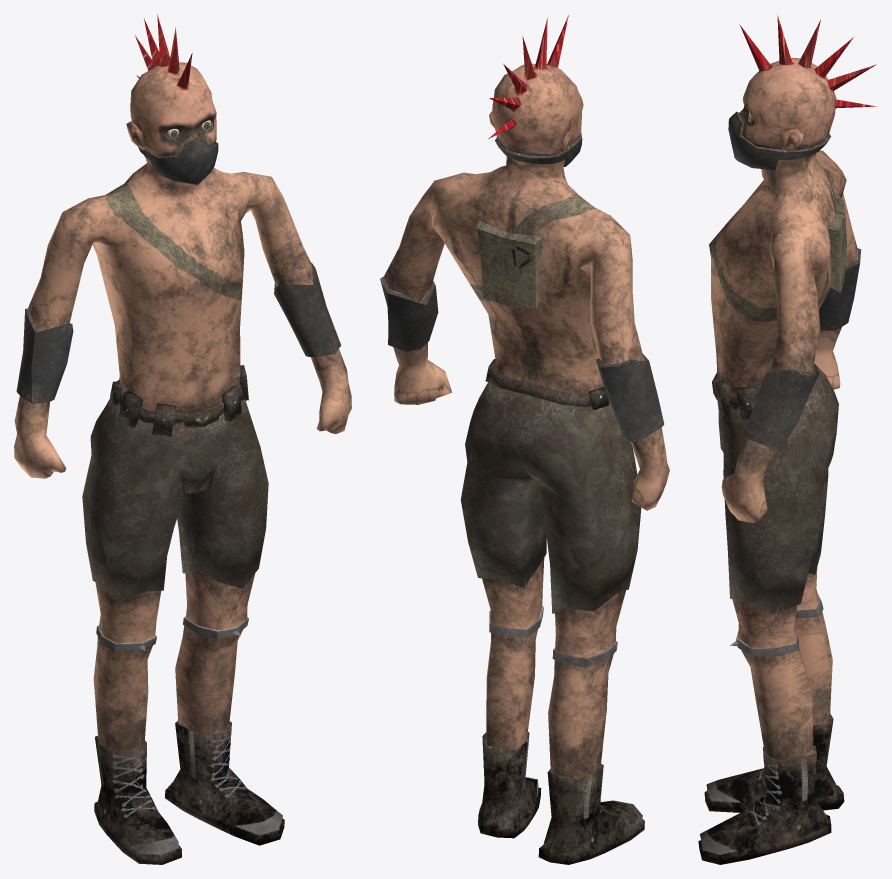
The model's file is Anim_disparar_pistola_npc2.0033.obj.
3 renders of one model, left to right at view 1: azimuth 30°, elevation 25°; view 2: azimuth 150°, elevation 25°; view 3: azimuth 270°, elevation 25°, orthographic. The views are drawn at different scales.
Visible parts, largest first — view 1: polySurface1; view 2: polySurface1; view 3: polySurface1.
Boxes of the visible parts, <box> form: polySurface1: <box>14,14,351,864</box>; polySurface1: <box>380,15,669,864</box>; polySurface1: <box>698,14,876,864</box>.
Bounding box in the file's own units: 4 × 10.27 × 2.05.
